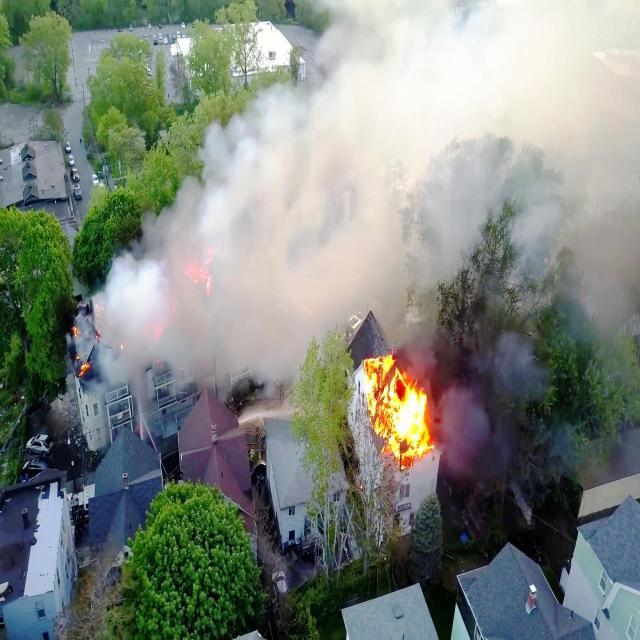Fire: (360, 359, 422, 471), (74, 296, 98, 374)
Smoke: (217, 0, 640, 342), (107, 148, 220, 398)
